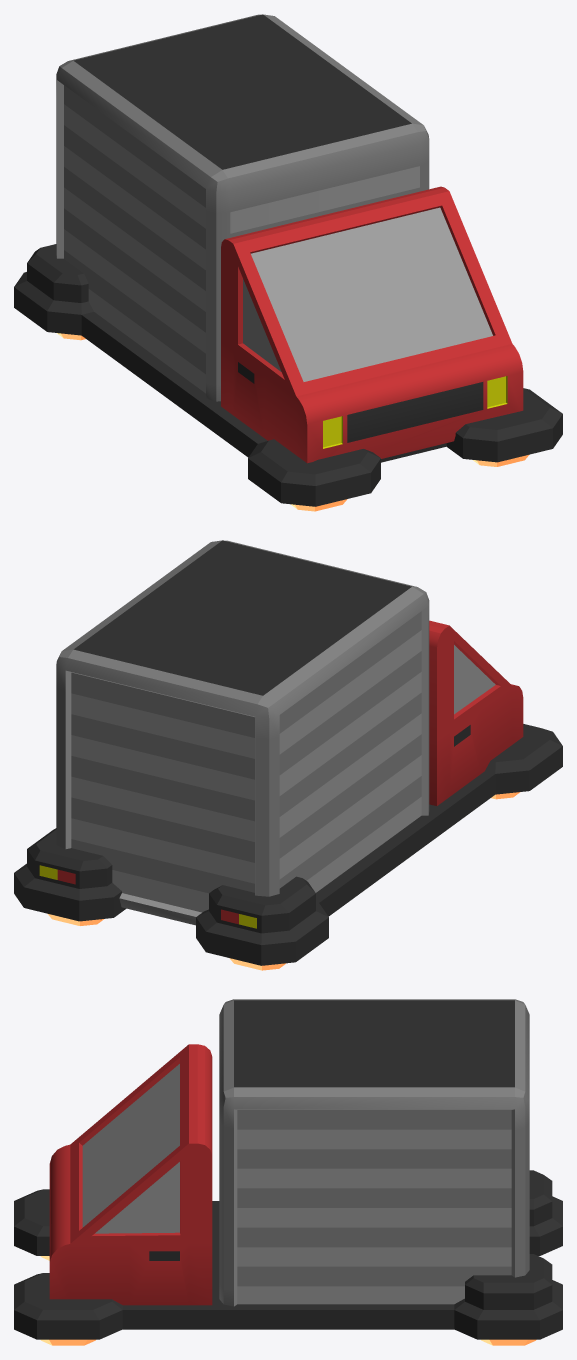
File: MOBIL_PLAYER.fbx
3 renders of one model, top to bottom at view 1: azimuth 30°, elevation 25°; view 2: azimuth 150°, elevation 25°; view 3: azimuth 270°, elevation 25°, orthographic. The views are drawn at different scales.
Parts seen in each view (by area): view 1: MOBIL_PLAYER; view 2: MOBIL_PLAYER; view 3: MOBIL_PLAYER.
Part boxes in pixels (x1,y1,x2,y2): MOBIL_PLAYER: (14, 14, 562, 511); MOBIL_PLAYER: (14, 540, 562, 970); MOBIL_PLAYER: (14, 999, 562, 1345).
Bounding box in the file's own units: 195 × 175 × 350.
